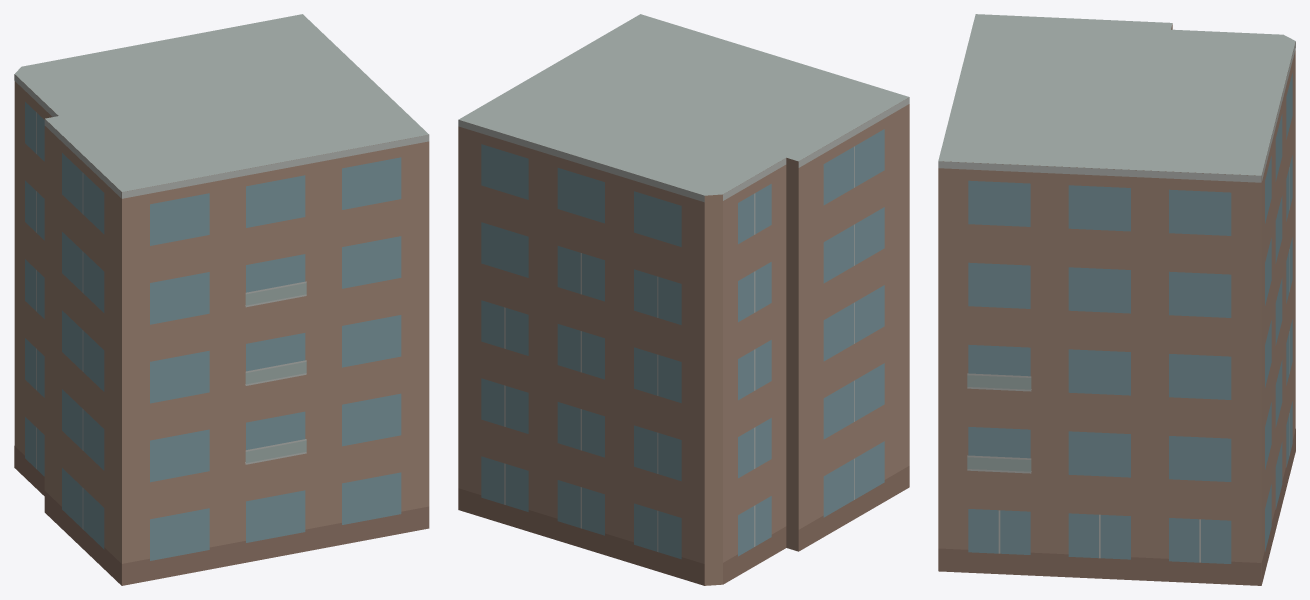
Rendered from survey-upis-32938794.glb.
3 views of the same model, side by side, from view 1: azimuth 30°, elevation 25°; view 2: azimuth 150°, elevation 25°; view 3: azimuth 270°, elevation 25° (orthographic). The views are drawn at different scales.
Visible parts, largest first — view 1: survey-upis-32938794.tmp; view 2: survey-upis-32938794.tmp; view 3: survey-upis-32938794.tmp.
Boxes of the visible parts, x1,y1,x2,y2 form: survey-upis-32938794.tmp: [14, 14, 429, 585]; survey-upis-32938794.tmp: [458, 14, 909, 585]; survey-upis-32938794.tmp: [938, 14, 1295, 585].
Size of the model in its own units: 12.02 by 14.2 by 11.23.
